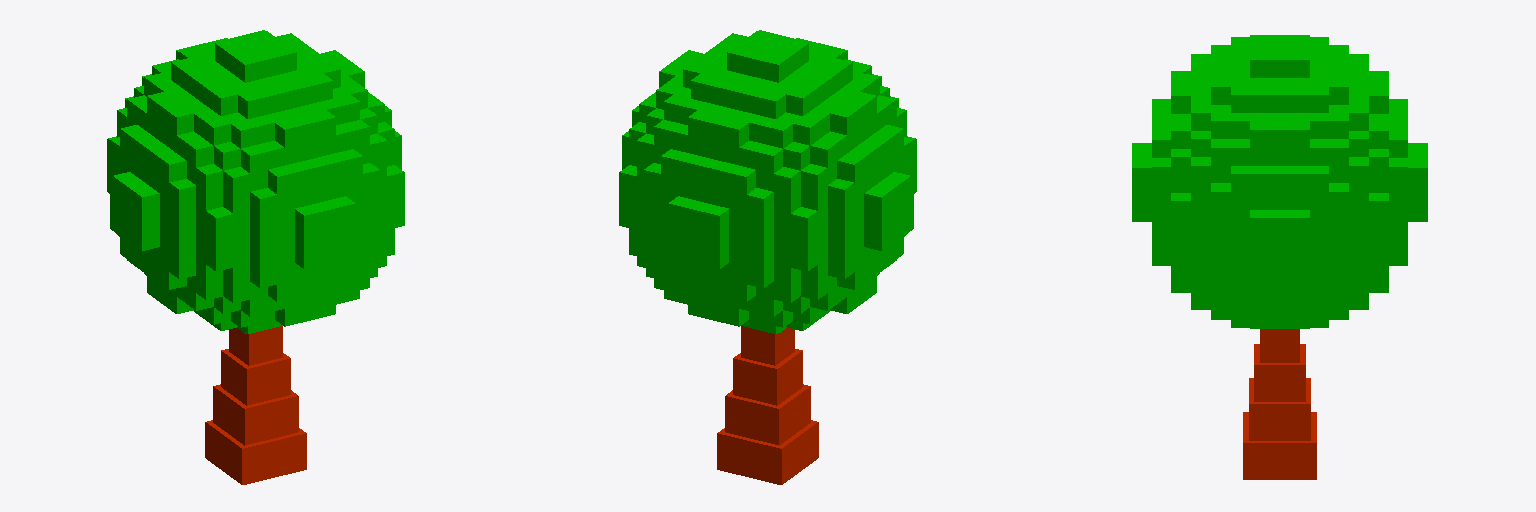
Rendered from tree4.obj.
The picture shows the model from 3 angles: view 1: azimuth 30°, elevation 25°; view 2: azimuth 150°, elevation 25°; view 3: azimuth 270°, elevation 25°; orthographic projection.
Visible parts, largest first — view 1: 球, 立方体; view 2: 球, 立方体; view 3: 球, 立方体.
Part boxes in pixels (x1,y1,x2,y2): 球: (107,30,404,333); 立方体: (205,326,306,484); 球: (619,30,916,333); 立方体: (717,326,818,484); 球: (1132,35,1427,328); 立方体: (1243,329,1316,479).
Bounding box in the file's own units: 4.62 × 7.16 × 4.62.